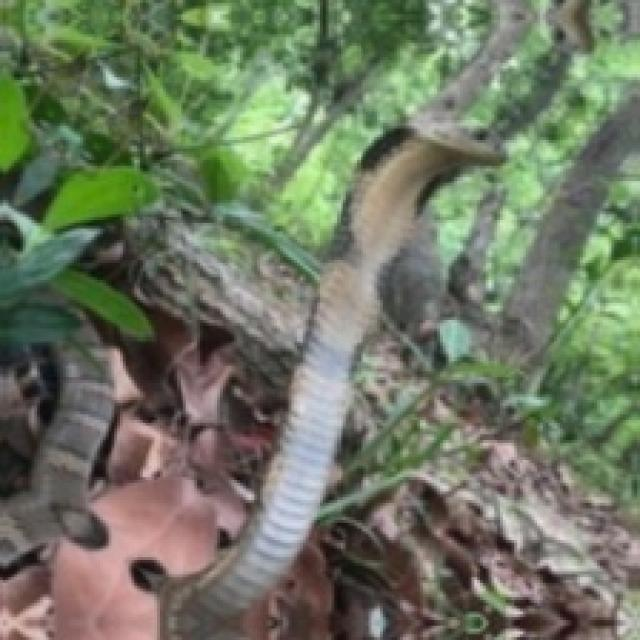king cobra: (137, 126, 497, 637), (160, 126, 500, 637)
